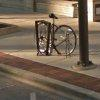Bicycle: (30, 11, 75, 60)
